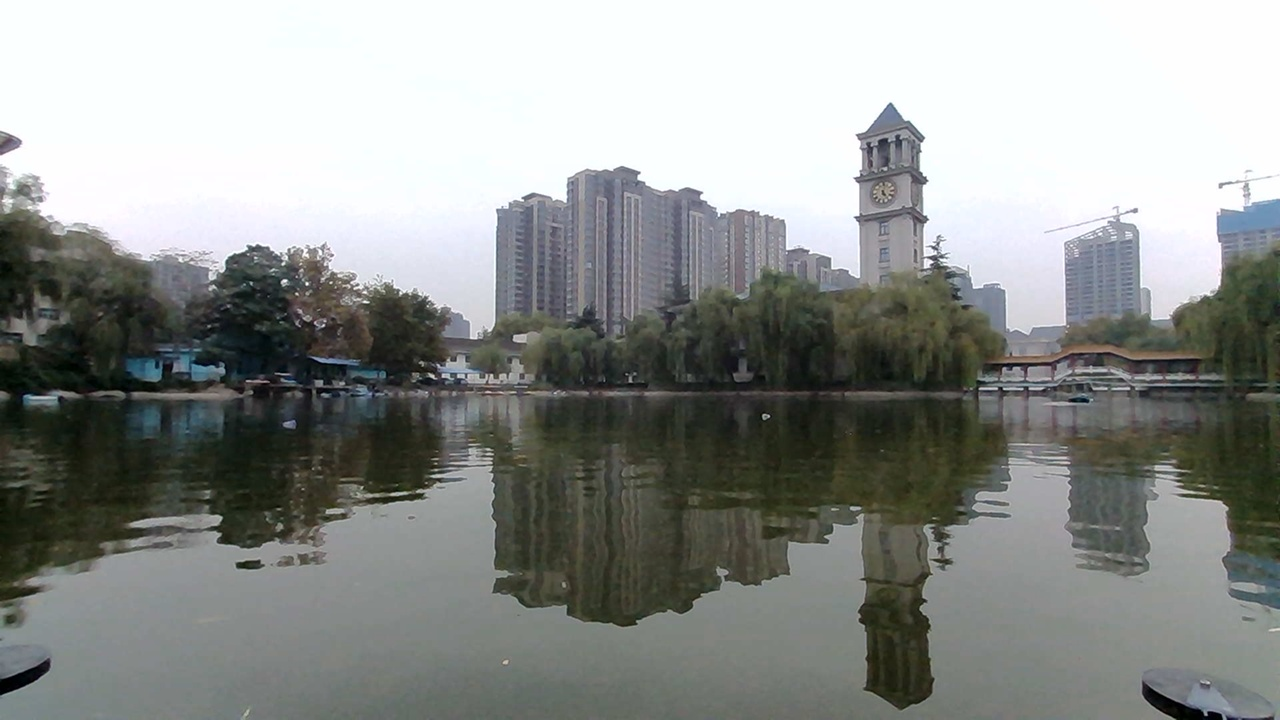bottle: (275, 403, 324, 440), (749, 401, 792, 430)
